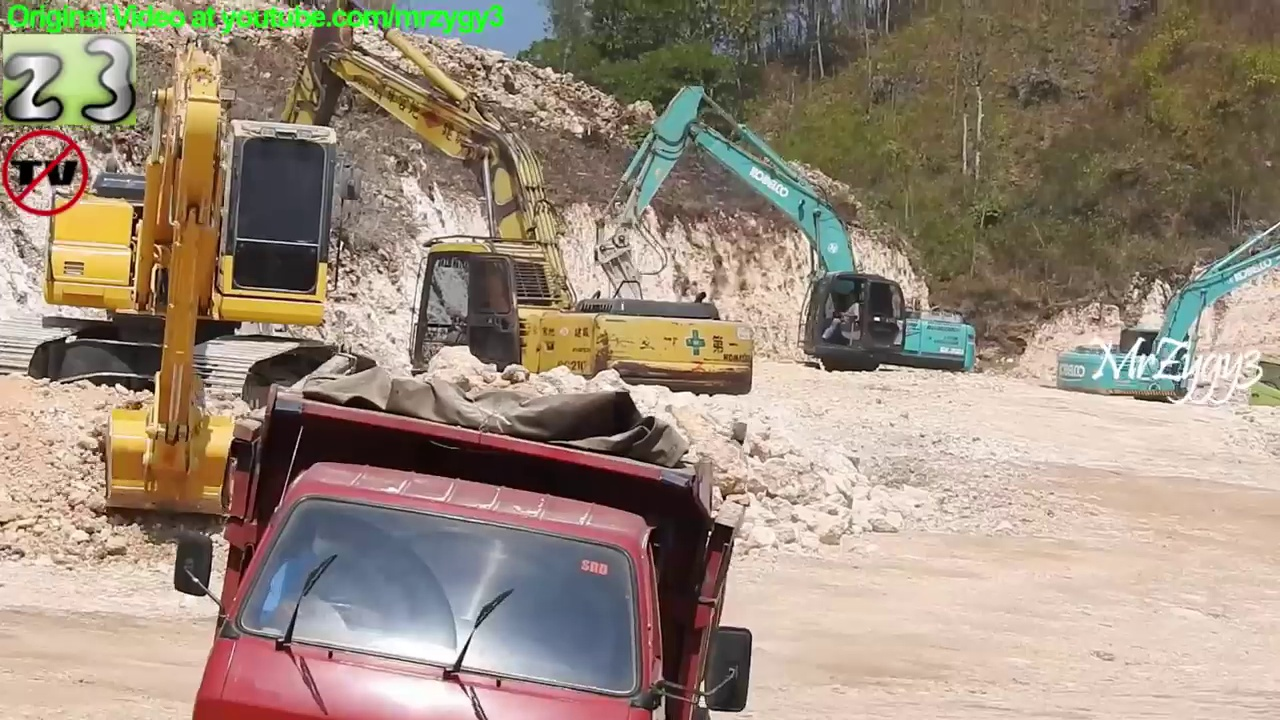excavator: (256, 1, 761, 448), (1, 30, 391, 528), (586, 76, 985, 406), (1050, 216, 1280, 428)
truck: (168, 375, 762, 720)
